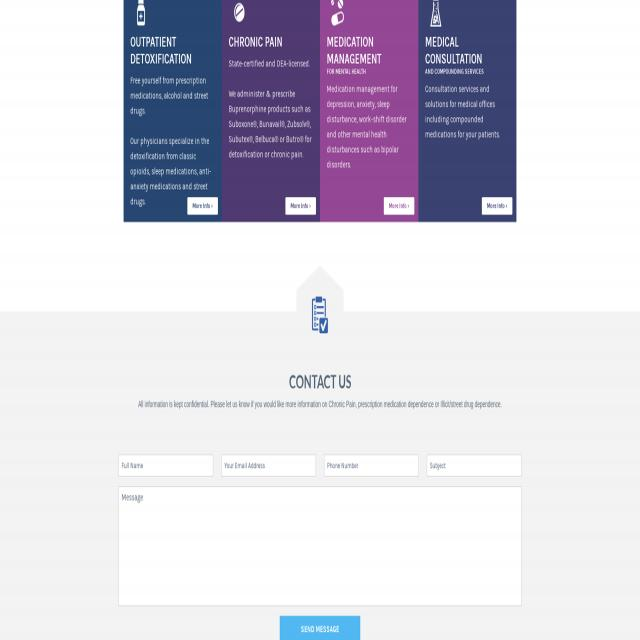button: (280, 615, 360, 640), (187, 198, 218, 215), (286, 198, 316, 215), (384, 198, 414, 215), (482, 198, 512, 215)
field: (118, 486, 520, 607), (119, 455, 213, 477), (222, 455, 316, 477), (324, 455, 418, 477), (427, 455, 521, 477)
